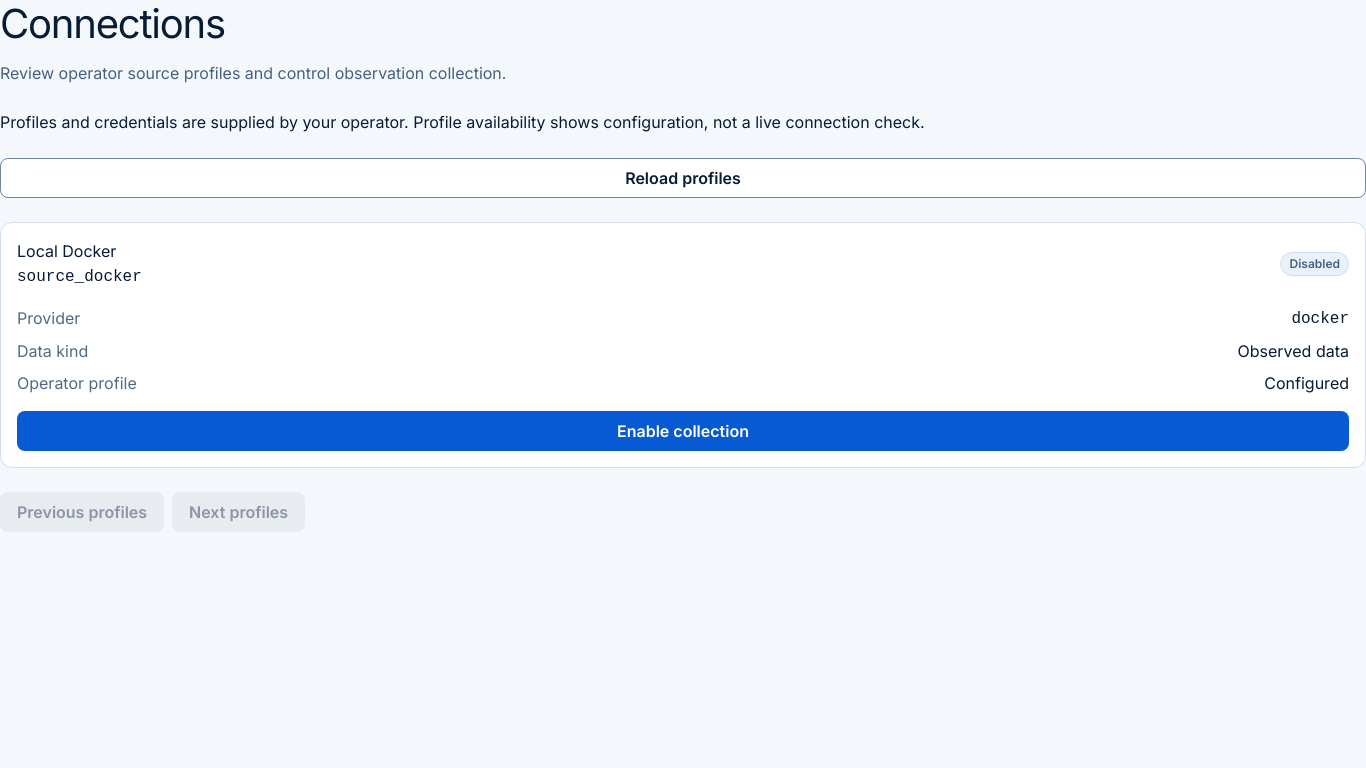
Test: operator source settings › requires exact preview, explicit confirmation and password for enabled=true
Click the button with aria-label "Enable collection for Local Docker". click: (683, 431)
box: [17,411,1349,451]
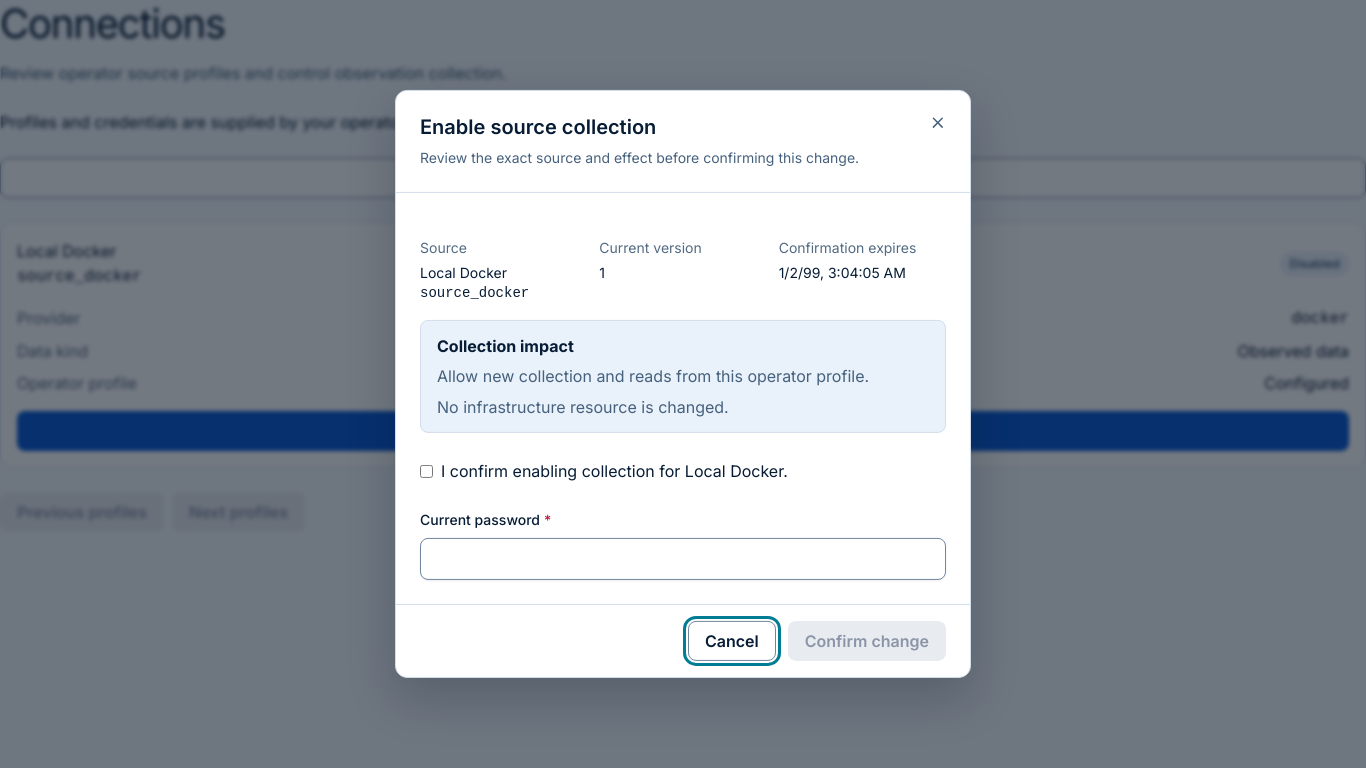
Expected: the button "Confirm change" is disabled, [788,621,946,661]
Expected: the text "Allow new collection and reads from this operator profile." is shown, [437,363,929,390]
Click the checkbox labelled "I confirm enabling collection for Local Docker.". click: (426, 471)
box: [420,465,433,478]
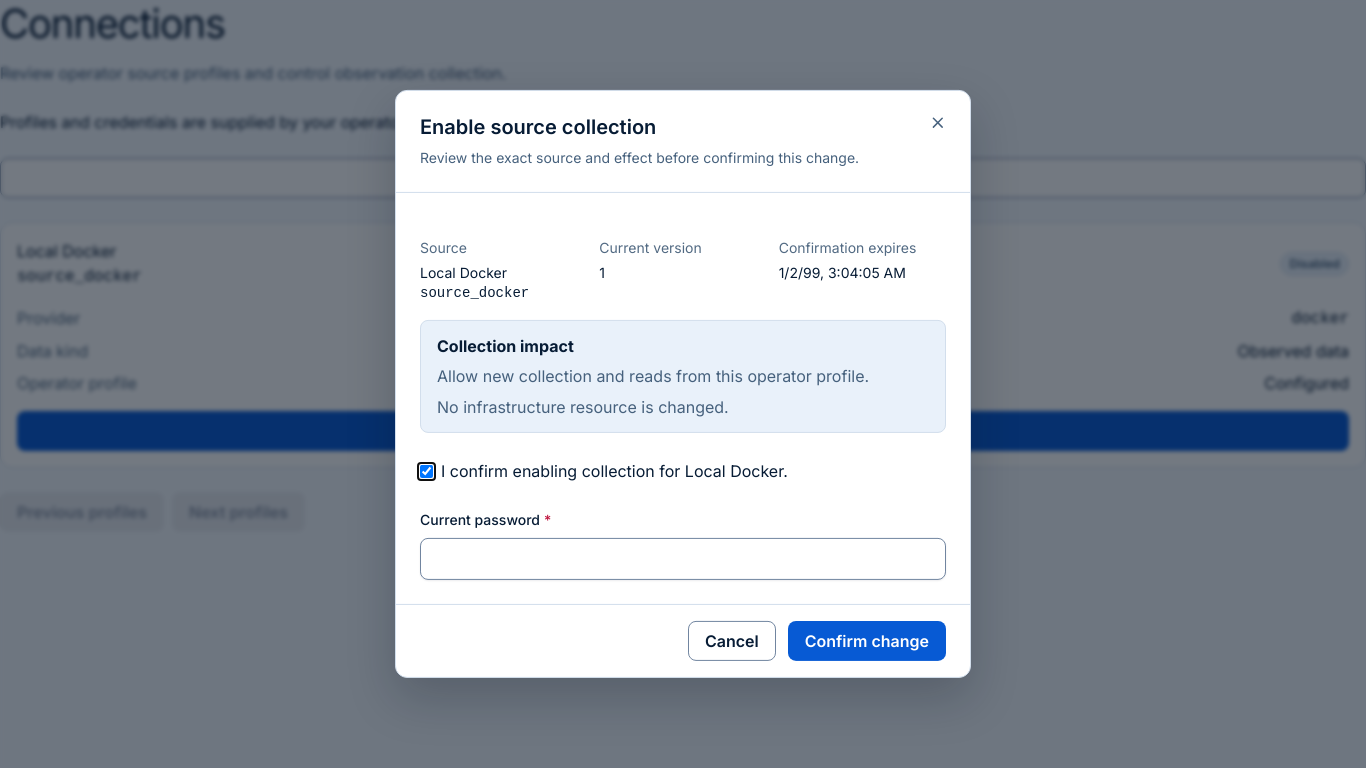
Type "invented-password" into the password field labelled "Current password*". click: (683, 559)
box: [420,538,946,580]
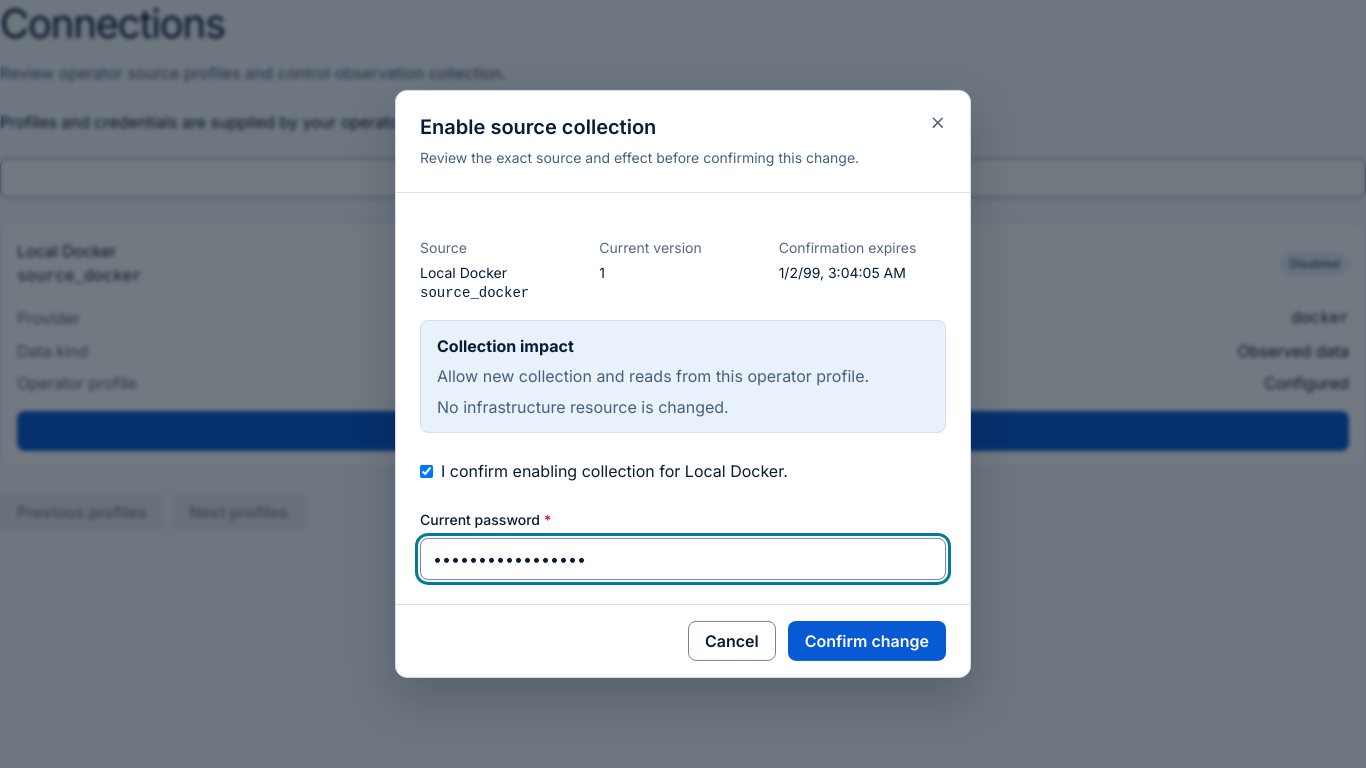
Click the button "Confirm change". click: (867, 641)
box: [788,621,946,661]
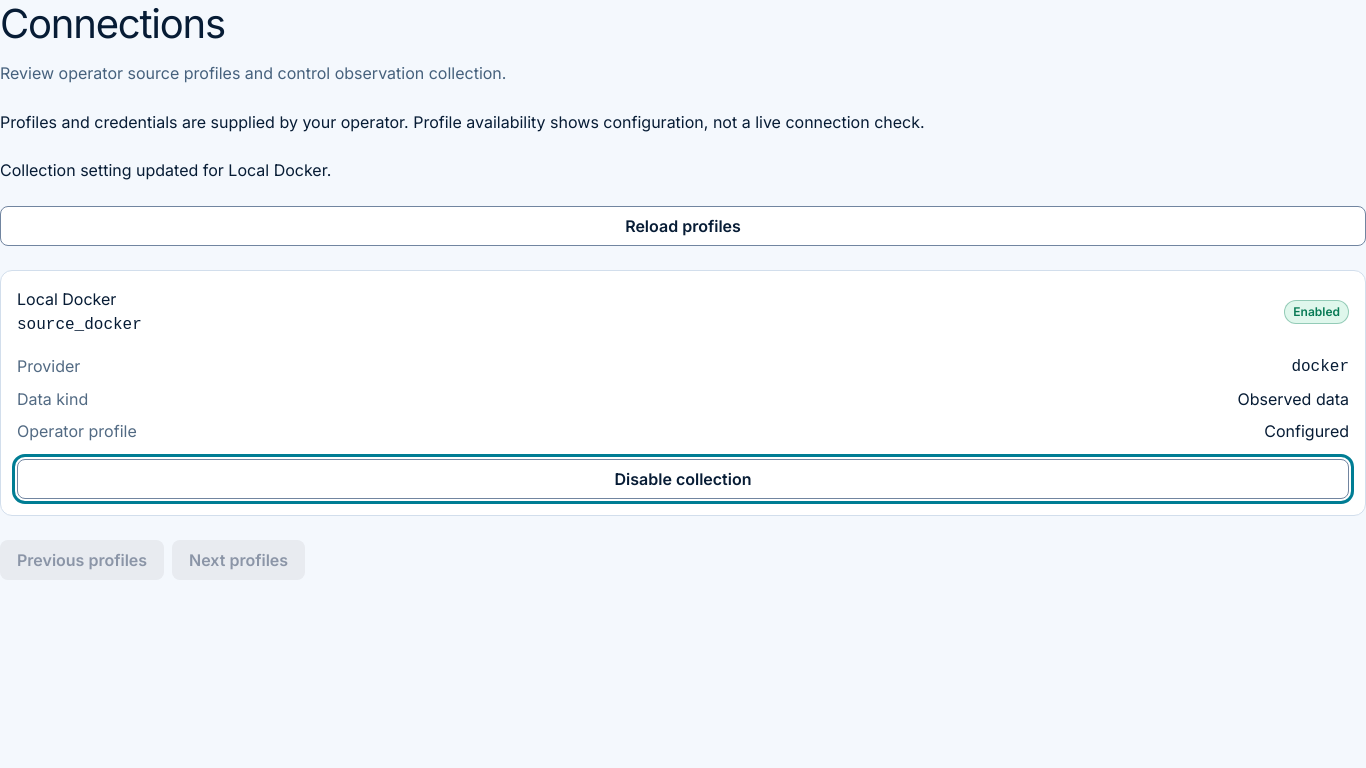
Expected: the text "Collection setting updated for Local Docker." is shown, [0,160,331,180]
Expected: the button with aria-label "Disable collection for Local Docker" is shown, [17,459,1349,499]
Expected: the dialog is gone
